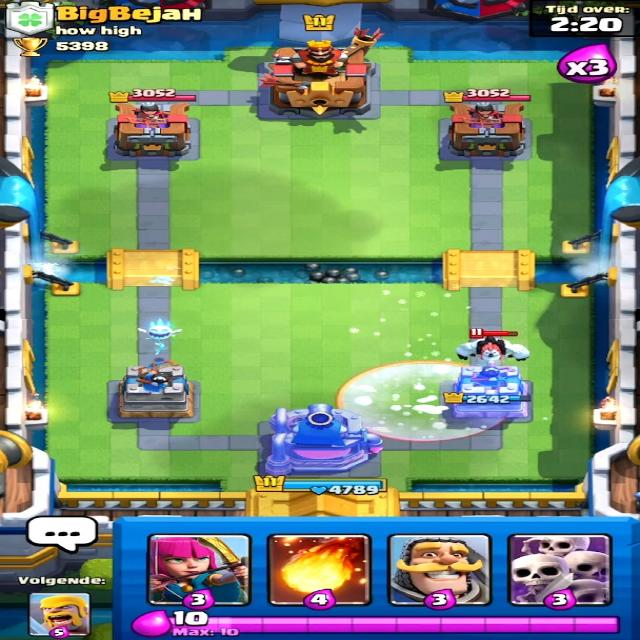Enemy_Ice_Golem_Troop: (449, 331, 528, 364)
Enemy_Ice_Spirit_Troop: (130, 320, 188, 345)
Fireball_Card: (264, 534, 372, 605)
